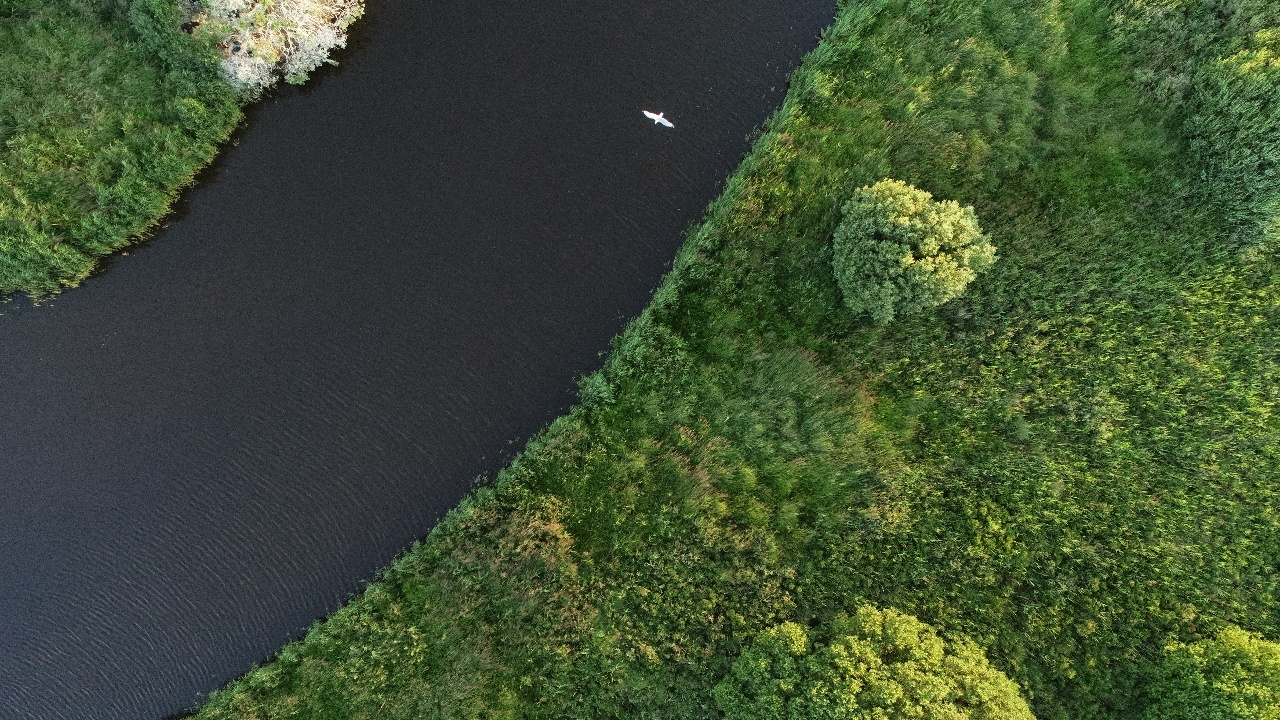Bird: (631, 98, 682, 138)
